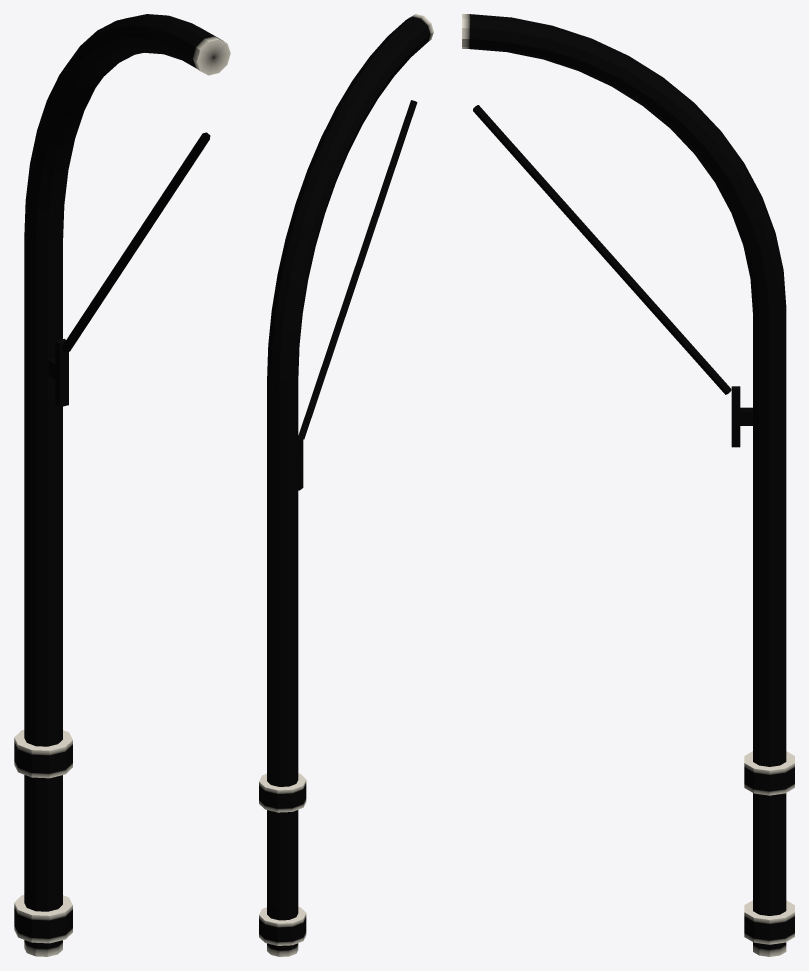
The model's file is davit.glb.
3 renders of one model, left to right at view 1: azimuth 30°, elevation 25°; view 2: azimuth 150°, elevation 25°; view 3: azimuth 270°, elevation 25°, orthographic. The views are drawn at different scales.
Visible parts, largest first — view 1: davit, hauling_part, cleat; view 2: davit, hauling_part; view 3: davit, hauling_part, cleat.
Part boxes in pixels (x1,y1,x2,y2): davit: (14, 14, 230, 956); hauling_part: (62, 132, 210, 352); cleat: (48, 338, 68, 407); davit: (259, 14, 433, 956); hauling_part: (298, 100, 417, 439); davit: (462, 14, 794, 956); hauling_part: (473, 105, 731, 394); cleat: (731, 386, 752, 447).
Bounding box in the file's own units: 0.136 × 2.63 × 0.8497.
